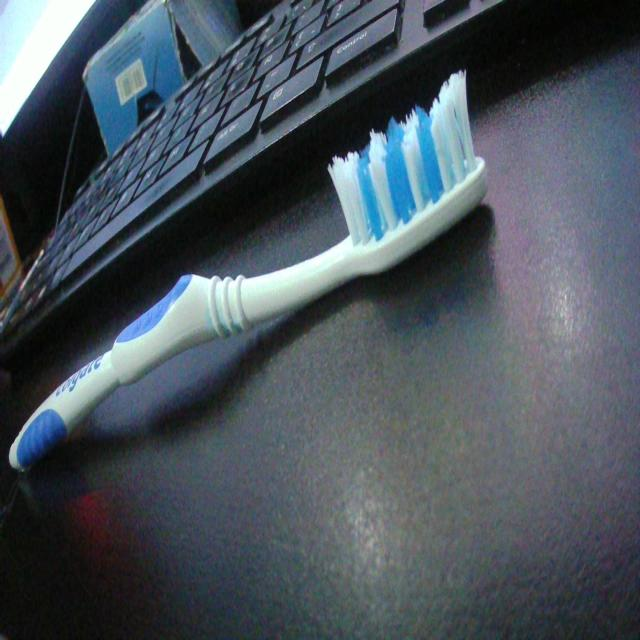Organico: (0, 63, 514, 492)
